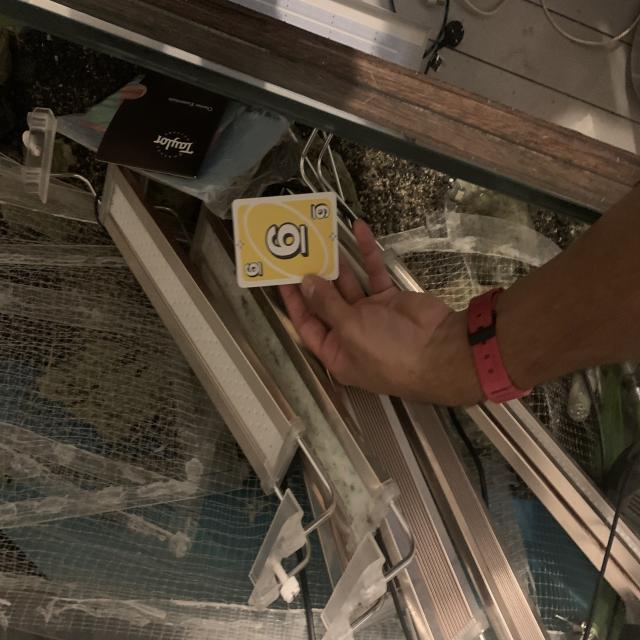lyellow-6: (242, 253, 268, 280)
